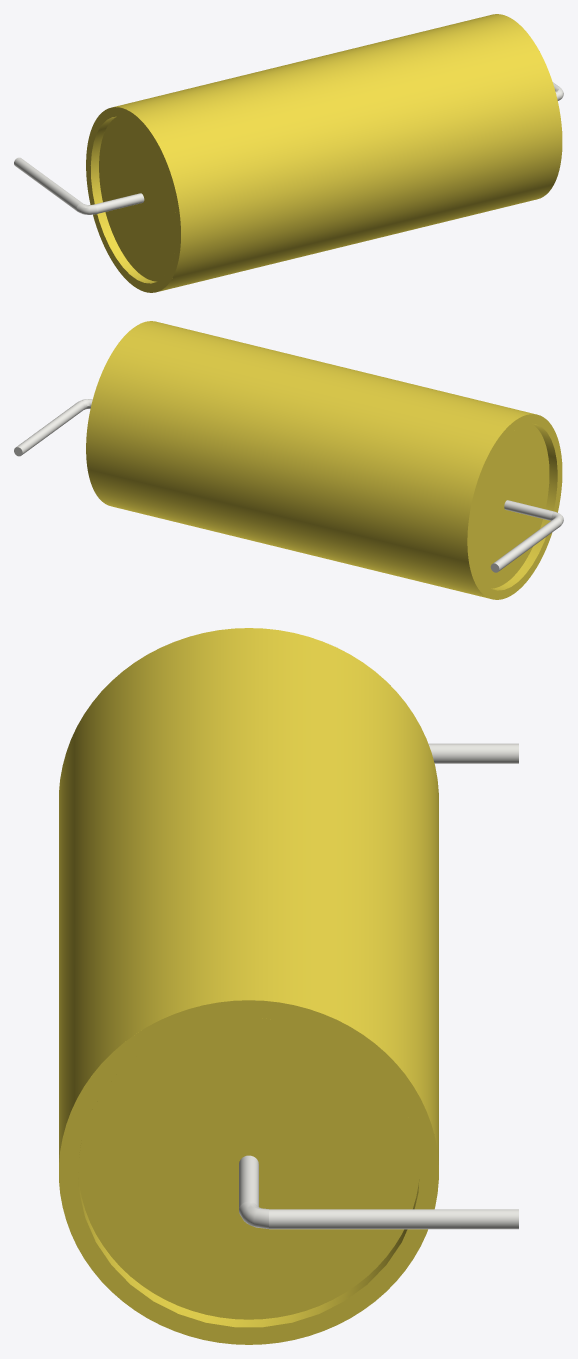
Rendered from C_Axial_L22.0mm_D9.5mm_P27.50mm_Horizontal.glb.
3 renders of one model, top to bottom at view 1: azimuth 30°, elevation 25°; view 2: azimuth 150°, elevation 25°; view 3: azimuth 270°, elevation 25°, orthographic. The views are drawn at different scales.
Visible parts, largest first — view 1: Shape_IndexedFaceSet, Shape_IndexedFaceSet.005, Shape_IndexedFaceSet.001, Shape_IndexedFaceSet.003, Shape_IndexedFaceSet.008, Shape_IndexedFaceSet.010; view 2: Shape_IndexedFaceSet, Shape_IndexedFaceSet.005, Shape_IndexedFaceSet.001, Shape_IndexedFaceSet.003, Shape_IndexedFaceSet.012, Shape_IndexedFaceSet.008, Shape_IndexedFaceSet.010; view 3: Shape_IndexedFaceSet, Shape_IndexedFaceSet.006, Shape_IndexedFaceSet.002, Shape_IndexedFaceSet.012, Shape_IndexedFaceSet.004, Shape_IndexedFaceSet.008, Shape_IndexedFaceSet.010.
Boxes of the visible parts, x1=… form: Shape_IndexedFaceSet: x1=113, y1=14, x2=562, y2=291; Shape_IndexedFaceSet.005: x1=99, y1=116, x2=176, y2=281; Shape_IndexedFaceSet.001: x1=86, y1=107, x2=180, y2=292; Shape_IndexedFaceSet.003: x1=90, y1=116, x2=156, y2=283; Shape_IndexedFaceSet.008: x1=14, y1=157, x2=82, y2=210; Shape_IndexedFaceSet.010: x1=94, y1=193, x2=144, y2=214; Shape_IndexedFaceSet: x1=86, y1=321, x2=534, y2=598; Shape_IndexedFaceSet.005: x1=472, y1=423, x2=549, y2=588; Shape_IndexedFaceSet.001: x1=467, y1=414, x2=562, y2=599; Shape_IndexedFaceSet.003: x1=491, y1=423, x2=557, y2=590; Shape_IndexedFaceSet.012: x1=16, y1=401, x2=84, y2=454; Shape_IndexedFaceSet.008: x1=493, y1=517, x2=561, y2=570; Shape_IndexedFaceSet.010: x1=504, y1=500, x2=554, y2=520; Shape_IndexedFaceSet: x1=59, y1=628, x2=438, y2=1301; Shape_IndexedFaceSet.006: x1=78, y1=1017, x2=419, y2=1319; Shape_IndexedFaceSet.002: x1=59, y1=1000, x2=438, y2=1344; Shape_IndexedFaceSet.012: x1=269, y1=1209, x2=518, y2=1229; Shape_IndexedFaceSet.004: x1=78, y1=1178, x2=419, y2=1327; Shape_IndexedFaceSet.008: x1=428, y1=743, x2=518, y2=763; Shape_IndexedFaceSet.010: x1=239, y1=1155, x2=258, y2=1208.
Size of the model in its own units: 11.02 by 3.74 by 4.53.
